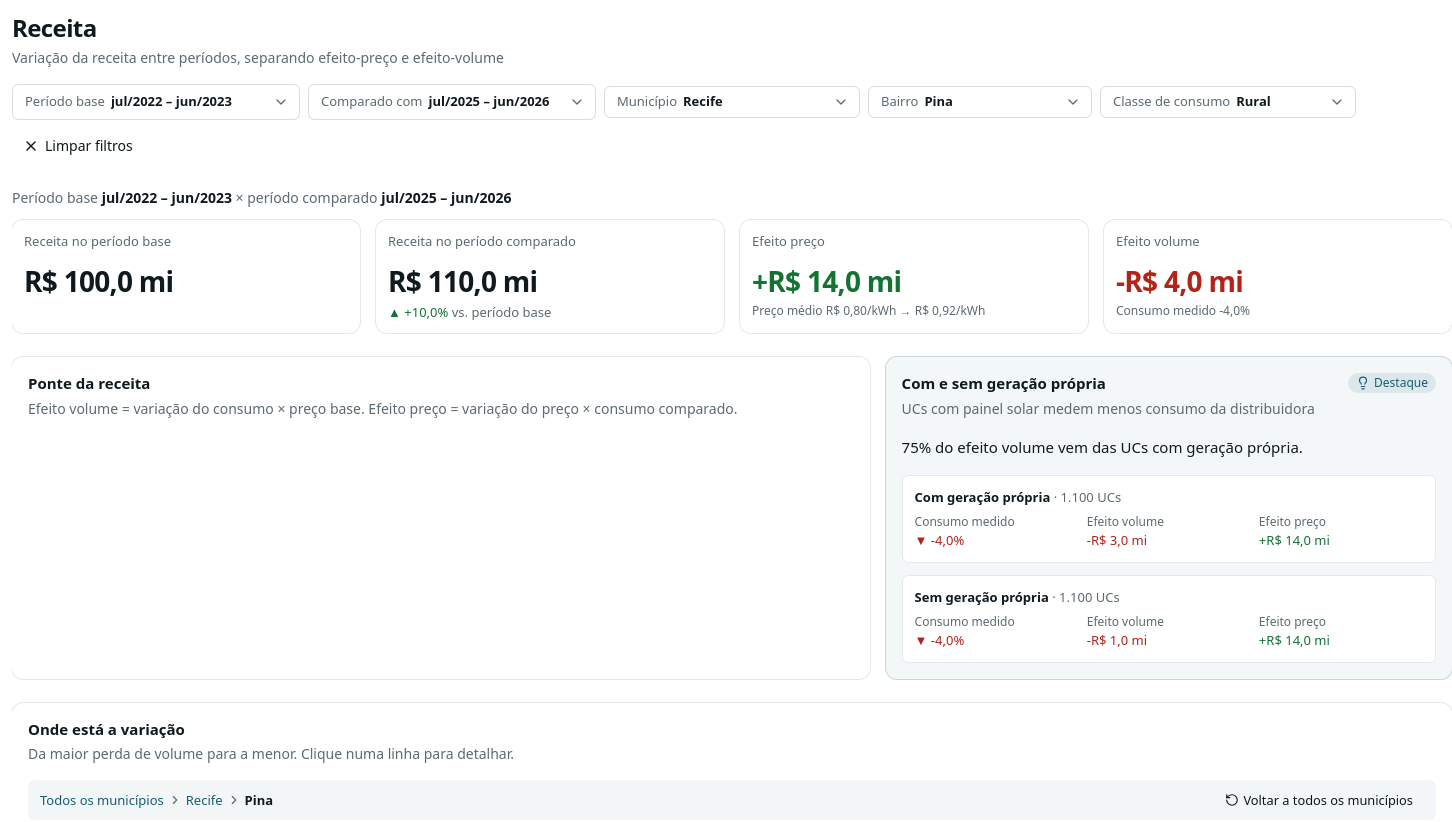
Test: o "Voltar a todos os municípios", junto da tabela, tira só município e bairro
What coordinates should you click on to do the following:
click the button "Voltar a todos os municípios"
I would click on:
 (1319, 800)
Its box is [1214,786,1424,814].
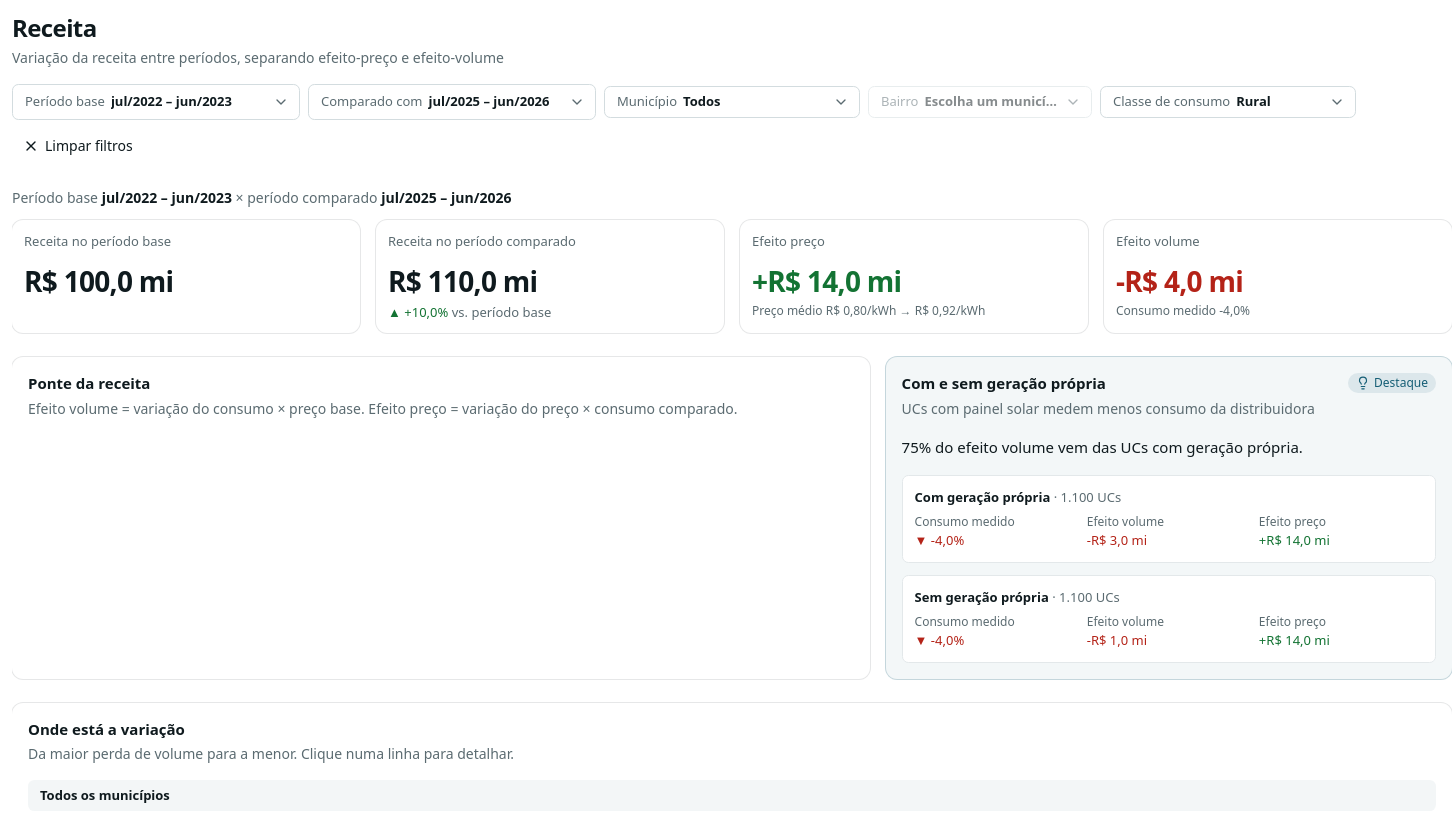
Result: the button "Voltar a todos os municípios" is gone
